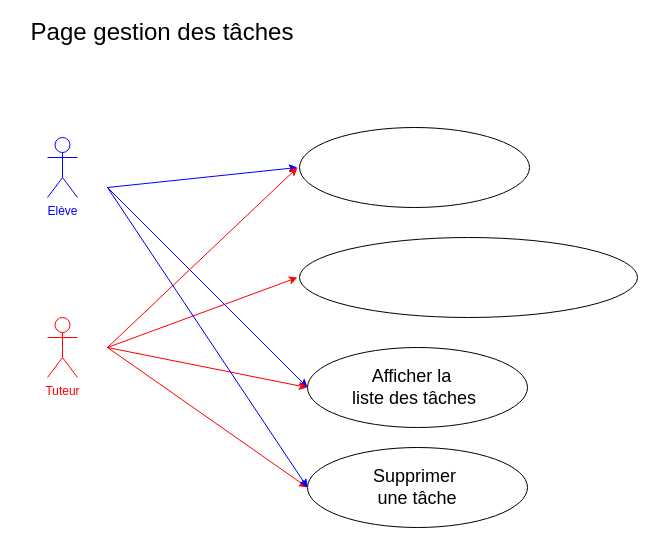
Some shapes in this 655 by 545 pixel diagram are drawn without their labels. Here are the shapes that lost their labels. From the top down, the centre of each, then its label:
the point at 414,167: Créer un tâche pour soi-même
the point at 468,277: Créer un tâche pour un autre utilisateur (élève)
